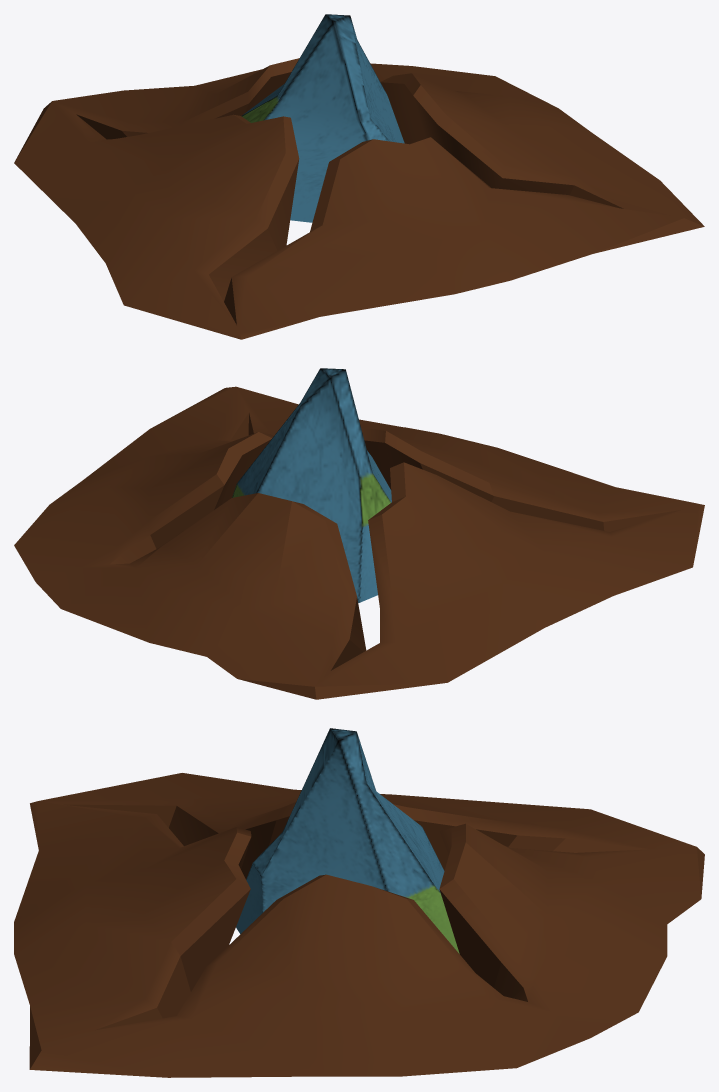
Rendered from small_resources_terain.fbx.
3 views of the same model, one above another, from view 1: azimuth 30°, elevation 25°; view 2: azimuth 150°, elevation 25°; view 3: azimuth 270°, elevation 25° (orthographic). The views are drawn at different scales.
Parts seen in each view (by area): view 1: small_resources_terain; view 2: small_resources_terain; view 3: small_resources_terain.
Part boxes in pixels (box(x1,y1,x2,y2)): small_resources_terain: box(14, 14, 704, 339); small_resources_terain: box(14, 368, 704, 699); small_resources_terain: box(14, 728, 704, 1077).
Size of the model in its own units: 135 by 51.59 by 129.
